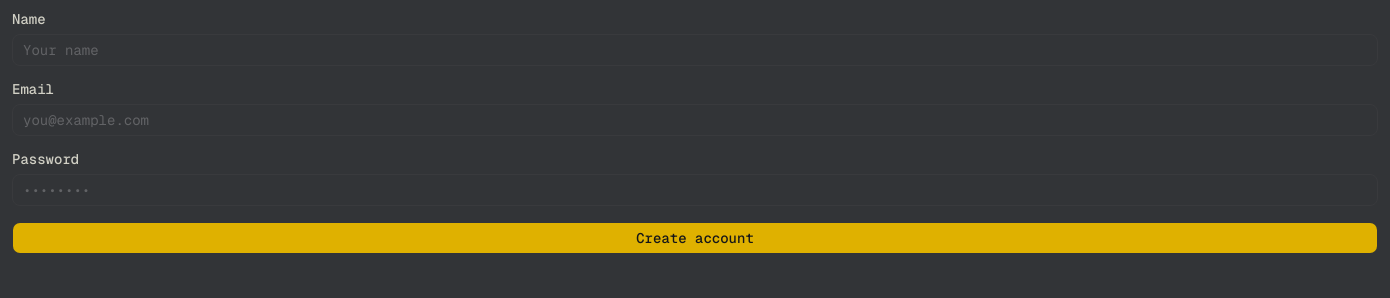
Test: RegisterForm › shows validation error for short password
In the field with placeholder "Your name": (695, 50) [12, 34, 1378, 66], type "John"
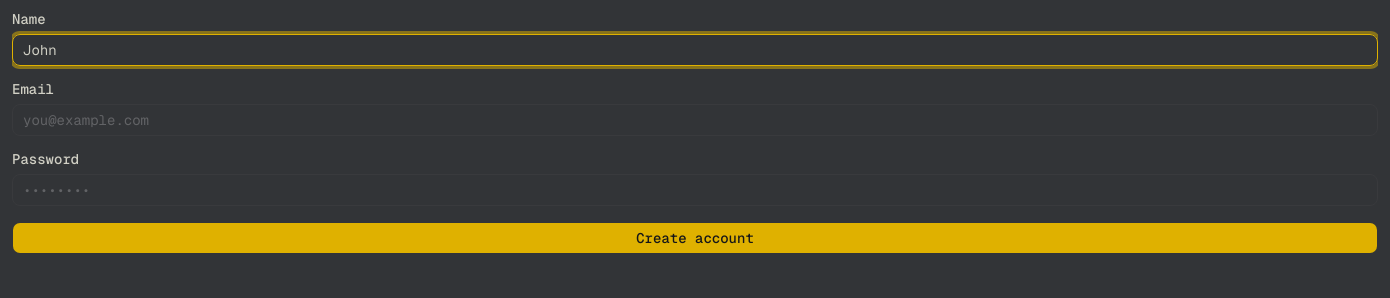
In the field with placeholder "you@example.com": (695, 120) [12, 104, 1378, 136], type "john@example.com"
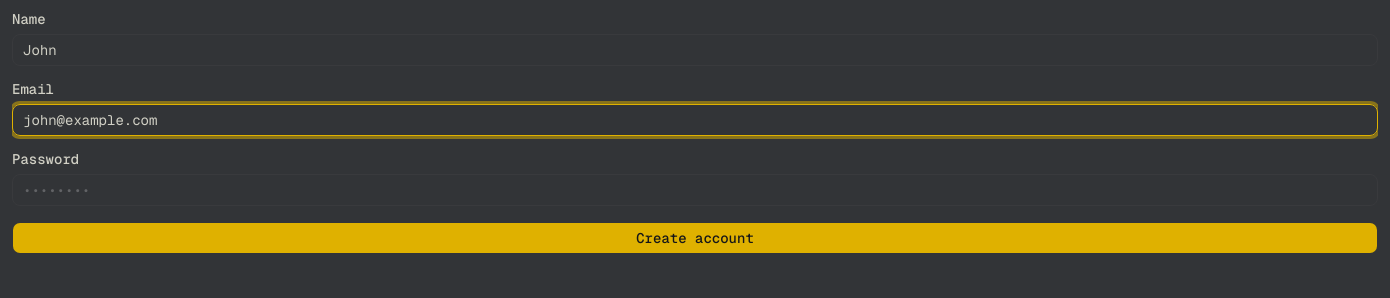
In the password field with placeholder "••••••••": (695, 190) [12, 174, 1378, 206], type "short"
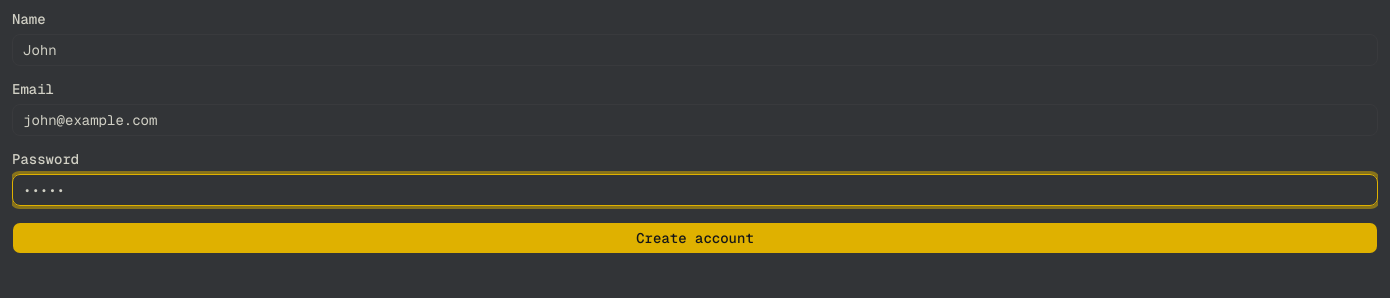
Click the button "Create account": (695, 238) [12, 222, 1378, 254]
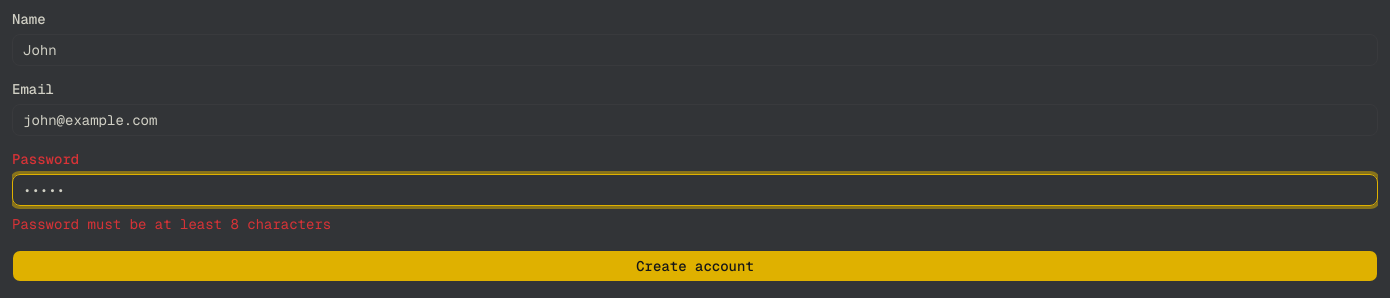
Check: the text "Password must be at least 8 characters" is shown, box [12, 215, 331, 233]
